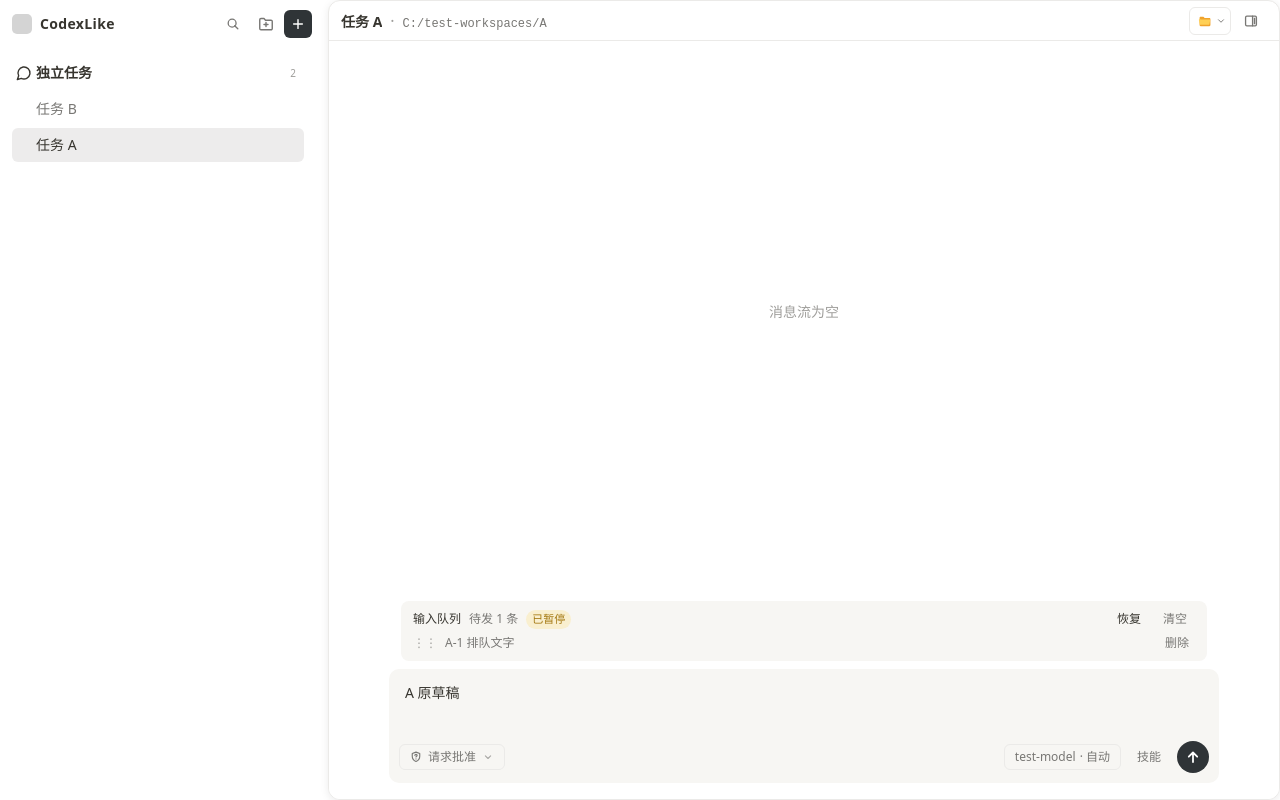
Test case: WorkspacePage 队列编辑与工作台草稿 › C01 同任务 event 新快照后，迟到旧 sequence 不能回滚队列
This screenshot has width=1280, height=800.
Expected: the text box with test id "composer-input" holds "A 原草稿", left=389, top=669, right=1219, bottom=735
Expected: the element with test id "queue-bar" is shown, left=401, top=601, right=1207, bottom=661
Click the button with test id "queue-item-remove" at (1177, 643), box left=1159, top=633, right=1195, bottom=653
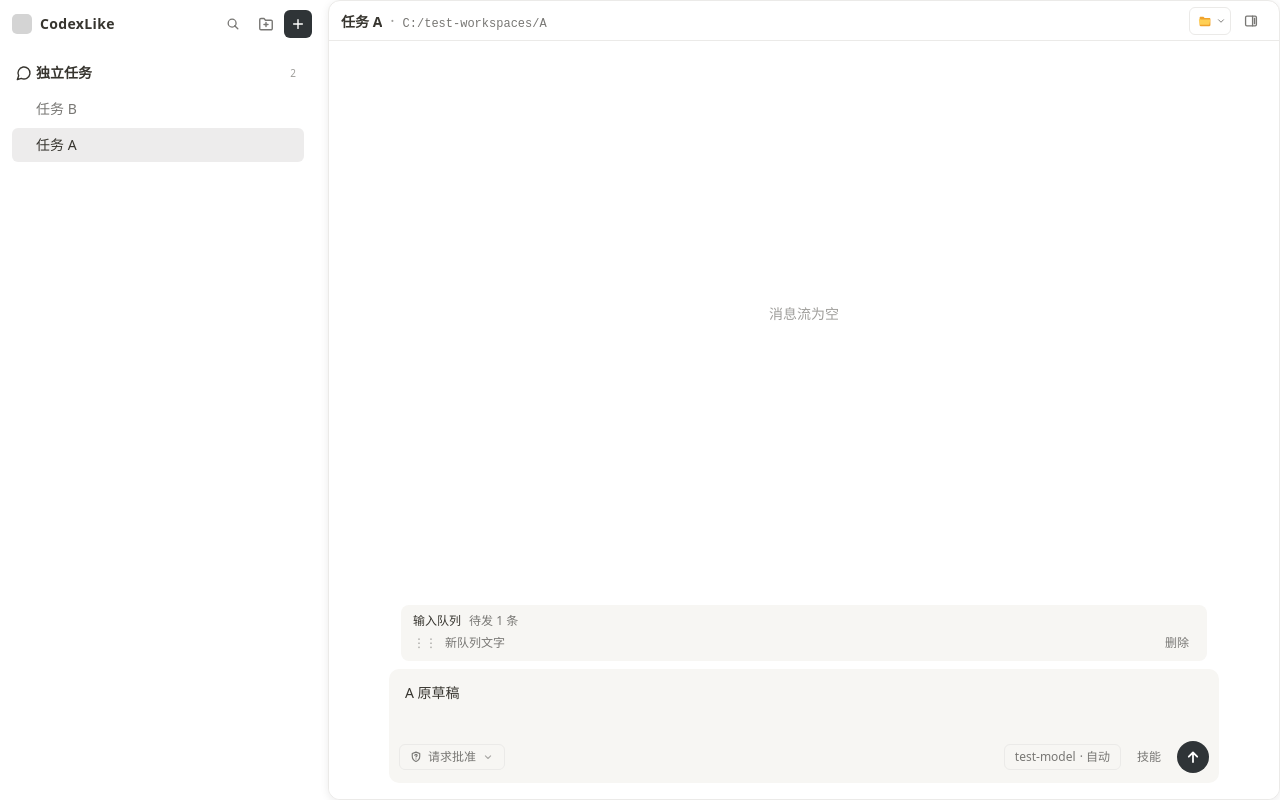
Now the button with test id "queue-item-preview" reads "新队列文字", box left=445, top=635, right=1151, bottom=651
Now the text with test id "queue-paused" is gone
